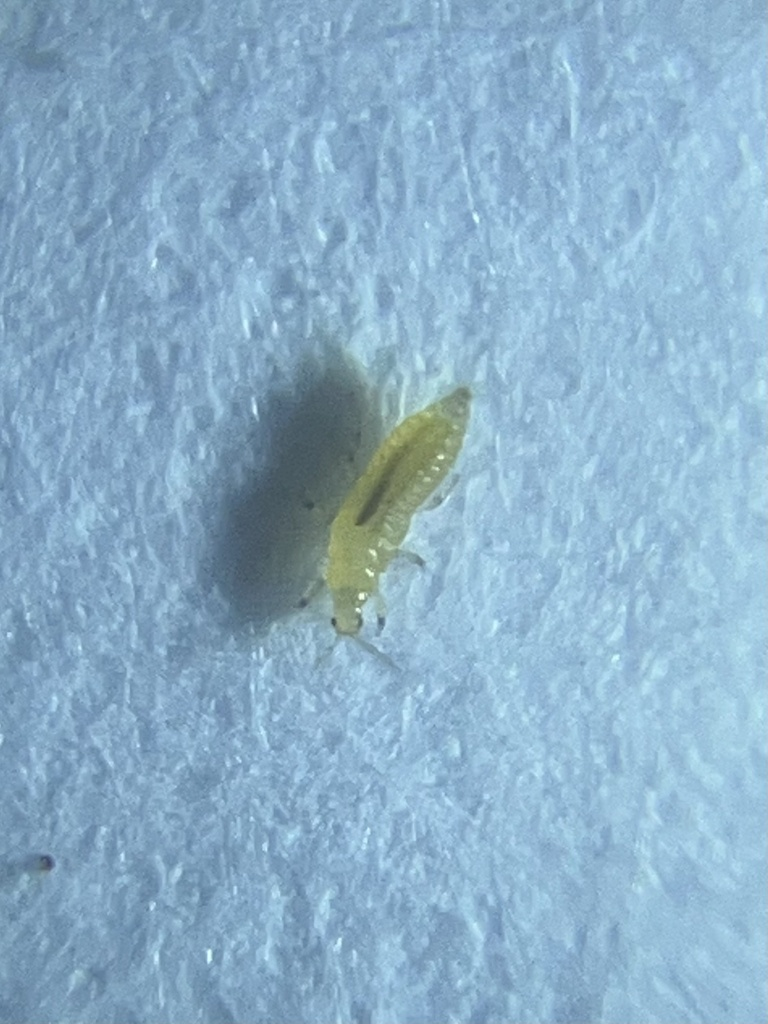tiny_pests: (208, 288, 570, 737)
